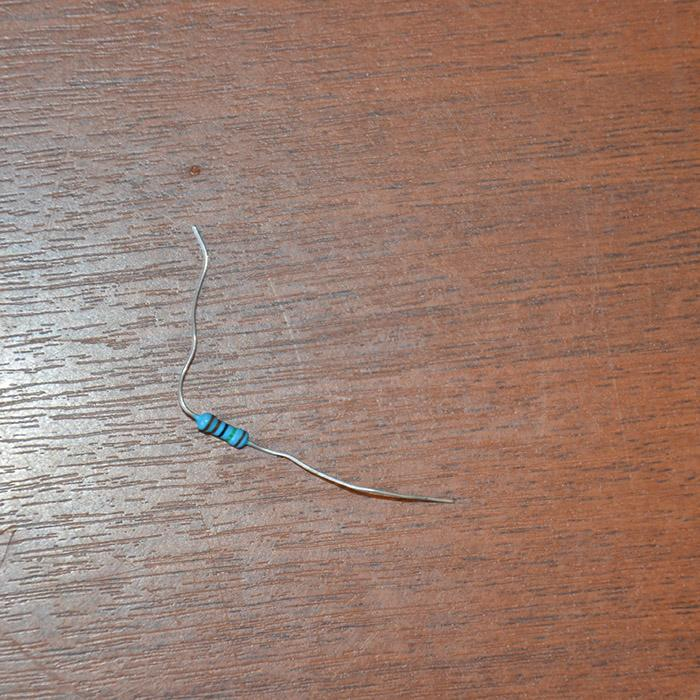resistor: (192, 409, 249, 448)
